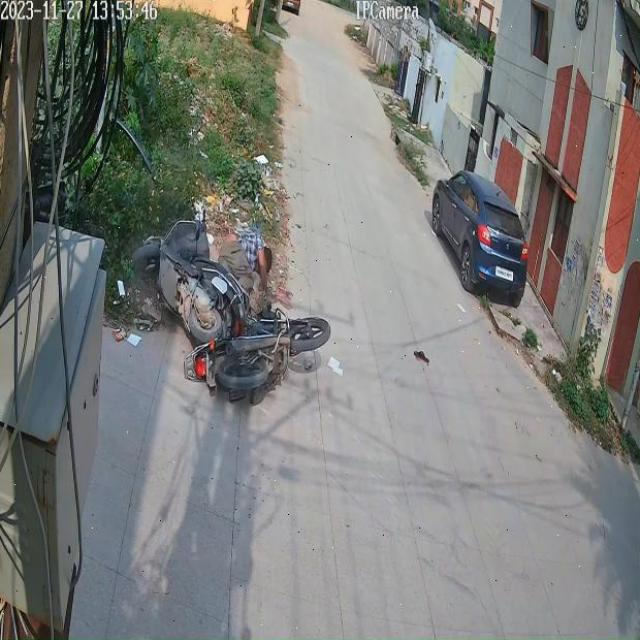accident: (111, 203, 281, 335), (189, 304, 331, 400)
